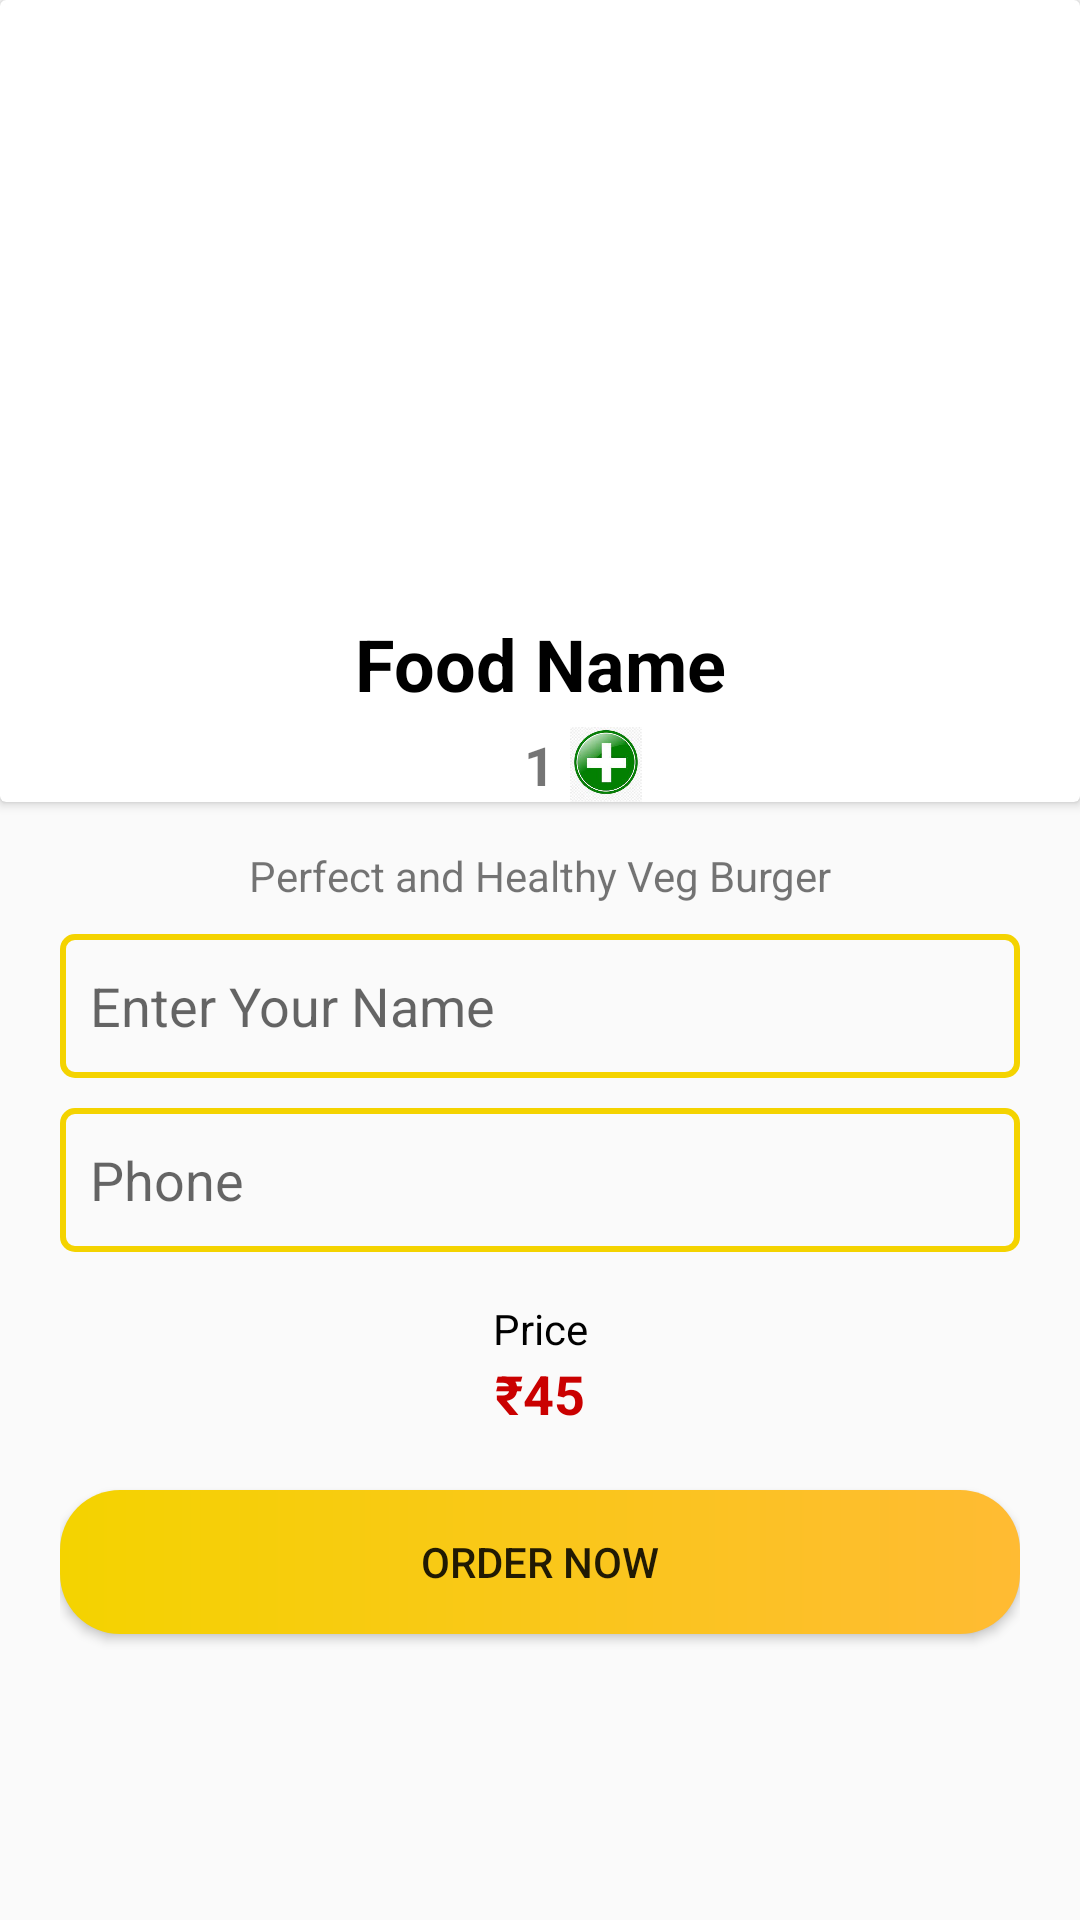

Where to tap for icons on this 1080w x 1920h app screen, as (x,y):
add: (604,762)
